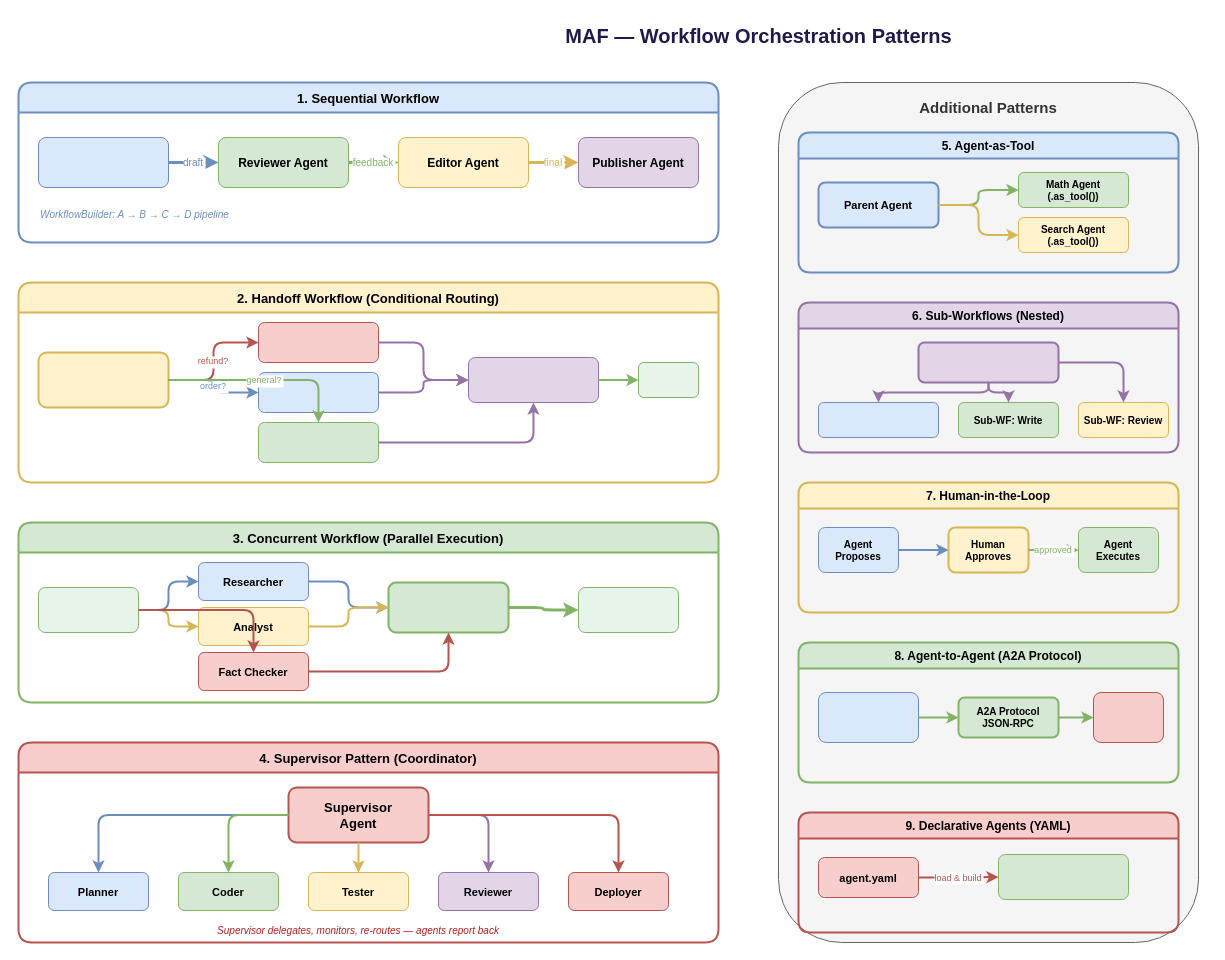
The diagram is 1225 pixels wide and 960 high, and some of its shapes have lost their labels. Each missing label, with the centre of its shape:
"Agent A (Local)" goes at (868,717).
"Agent B (Remote)" goes at (1128,717).
"ChatAgent (auto-configured)" goes at (1063,877).
"Combined Response" goes at (628,609).
"Formatter Agent" goes at (533,379).
"Main Workflow" goes at (988,362).
"Merge & Synthesize" goes at (448,607).
"Order Agent" goes at (318,392).
"Refund Agent" goes at (318,342).
"Response" goes at (668,380).
"Sub-WF: Research" goes at (878,420).
"Support Agent" goes at (318,442).
"Triage Agent" goes at (103,379).
"User Query" goes at (88,609).
"Writer Agent" goes at (103,162).
